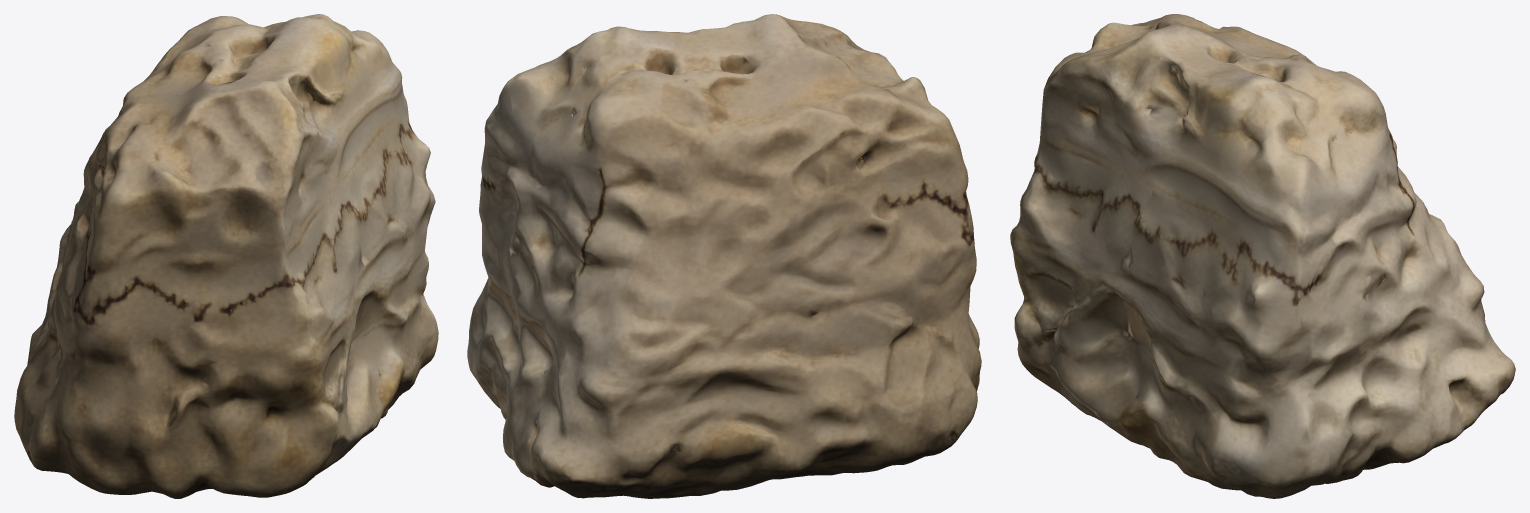
3 renders of one model, left to right at view 1: azimuth 30°, elevation 25°; view 2: azimuth 150°, elevation 25°; view 3: azimuth 270°, elevation 25°, orthographic. The views are drawn at different scales.
Parts seen in each view (by area): view 1: world; view 2: world; view 3: world.
Part boxes in pixels (box(x1,y1,x2,y2)): world: box(14, 14, 438, 498); world: box(467, 14, 981, 498); world: box(1010, 14, 1515, 498).
Size of the model in its own units: 0.2978 by 0.2519 by 0.3.
Materials: 1 (1 with a texture image).
